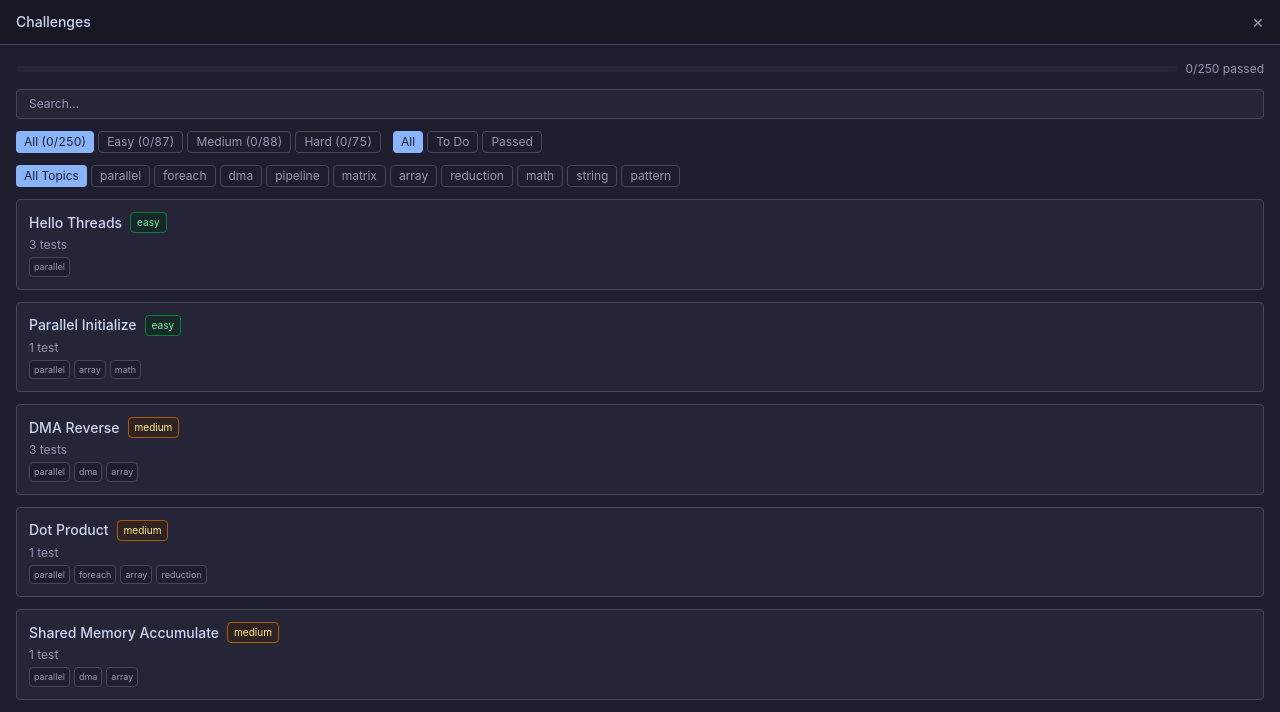
Test: ChallengePanel › shows challenge detail view with Back button
Click the text "Hello Threads". click: click(76, 222)
box: [29,212,122,232]
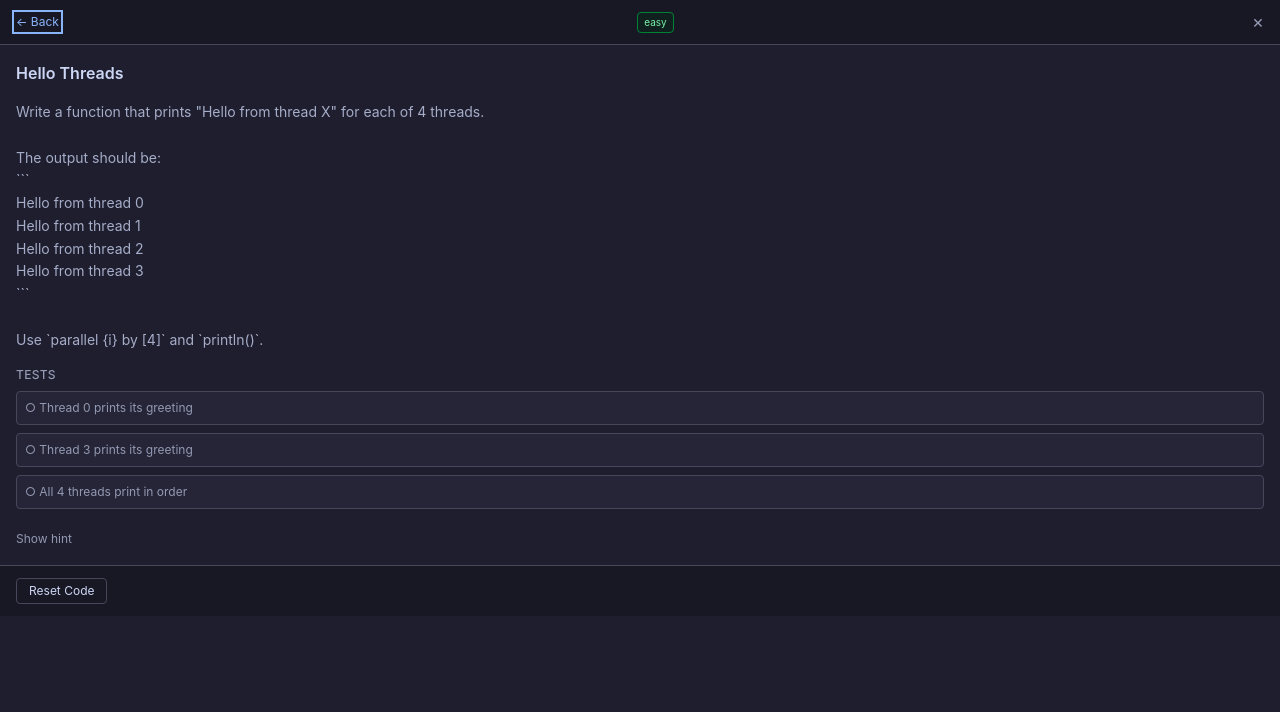
Expected: the button "← Back" is shown, [16,14,59,30]
